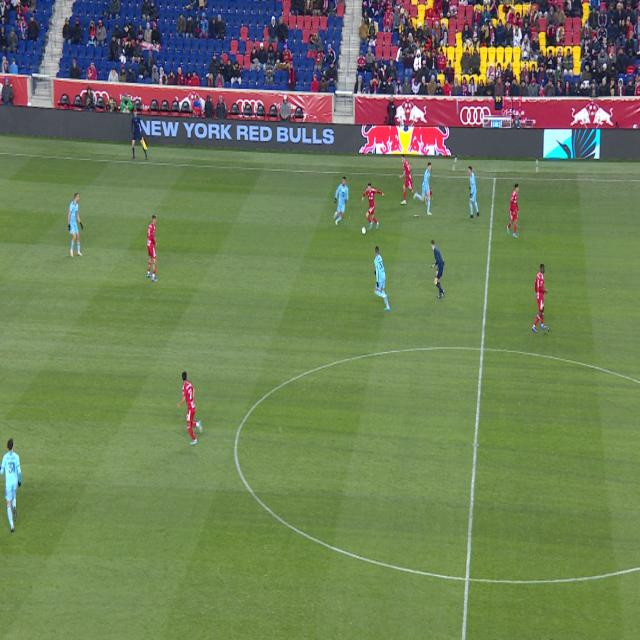football: (362, 227, 366, 234)
player: (0, 438, 21, 532), (178, 371, 202, 445), (362, 183, 385, 229), (533, 264, 548, 333), (374, 246, 390, 310), (68, 193, 83, 258), (414, 163, 432, 215), (399, 154, 416, 205), (334, 176, 349, 226), (147, 215, 157, 281), (507, 184, 519, 238), (468, 166, 479, 218), (418, 197, 421, 207)
referee: (431, 240, 444, 299)
